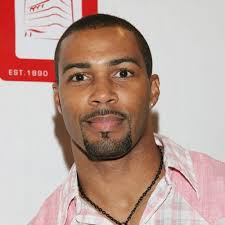black_male: (44, 18, 161, 175)
